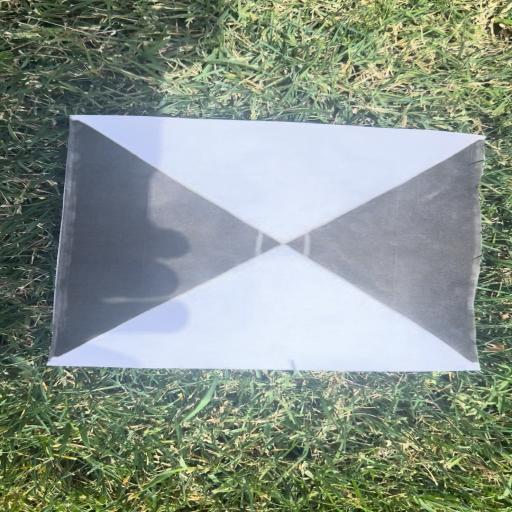target: (70, 115, 481, 372)
